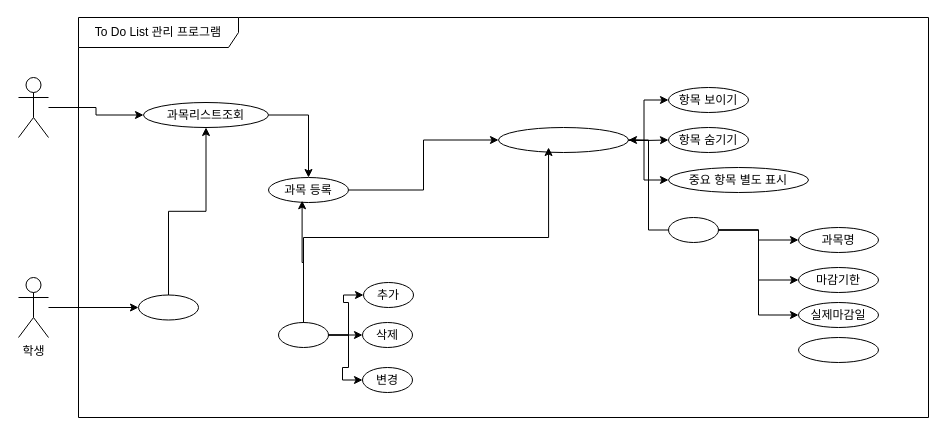
This 946x435 diagram has some shape labels left out. The shapes that lost their labels are listed below. From the top down, each one's centre as x and y in pixels, then its label:
At point (33, 107): "시스템".
At point (563, 139): "To Do List 작성".
At point (693, 229): "정렬".
At point (168, 307): "로그인".
At point (303, 335): "관리".
At point (838, 349): "완료여부".
